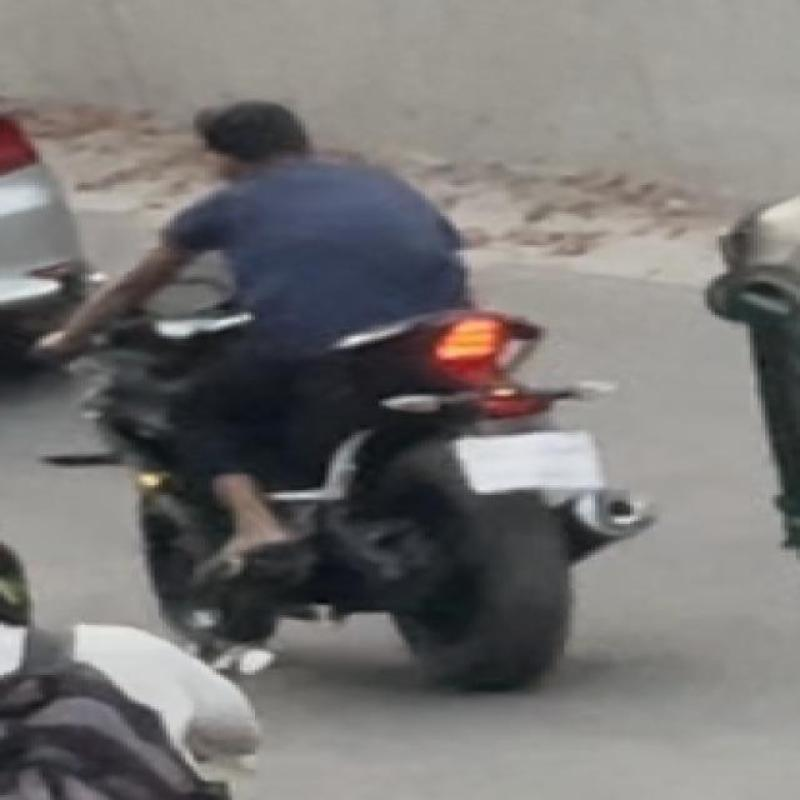nohelmet: (182, 74, 390, 190), (456, 440, 646, 494)
